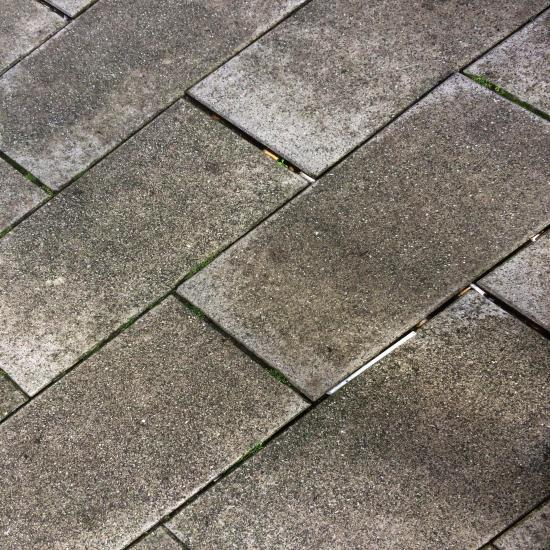Cigarette: (469, 283, 487, 297), (300, 171, 316, 184), (263, 149, 280, 161), (531, 231, 545, 242), (458, 287, 471, 297), (417, 318, 429, 328)
Plastic straw: (326, 331, 416, 395)
